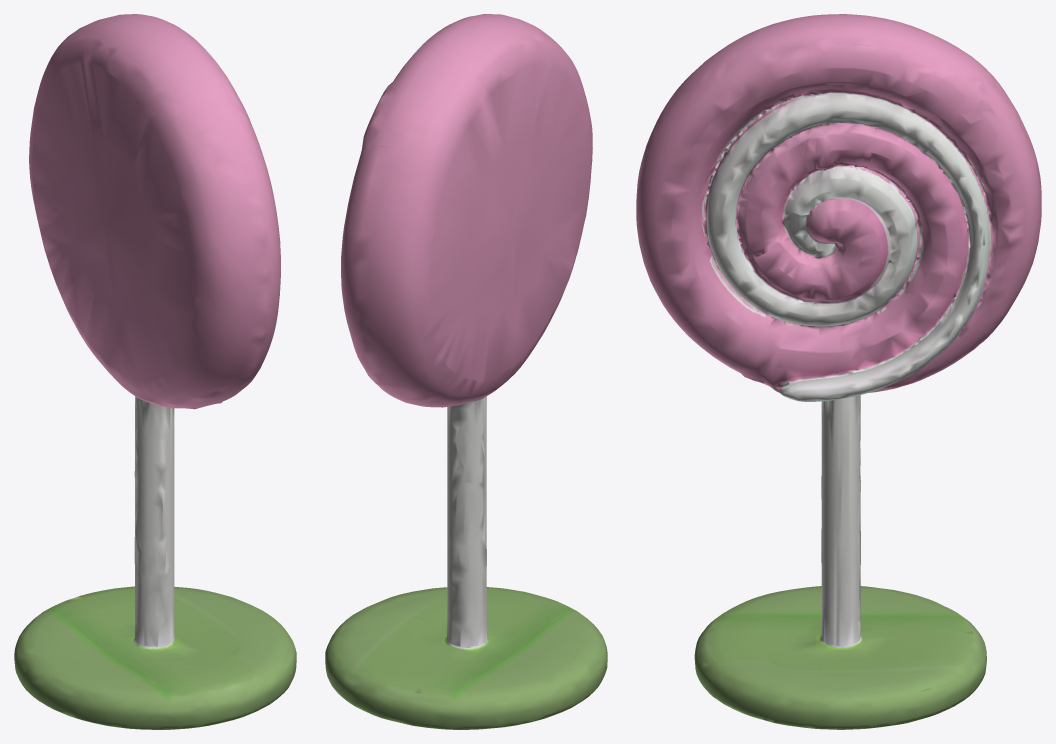
3 renders of one model, left to right at view 1: azimuth 30°, elevation 25°; view 2: azimuth 150°, elevation 25°; view 3: azimuth 270°, elevation 25°, orthographic.
Parts seen in each view (by area): view 1: repaired; view 2: repaired; view 3: repaired.
Boxes of the visible parts, bbox=[...] form: repaired: bbox=[14, 14, 296, 729]; repaired: bbox=[325, 14, 607, 729]; repaired: bbox=[636, 14, 1041, 729].
Bounding box in the file's own units: 0.3941 × 0.9995 × 0.56.
1 material, 1 textured.
